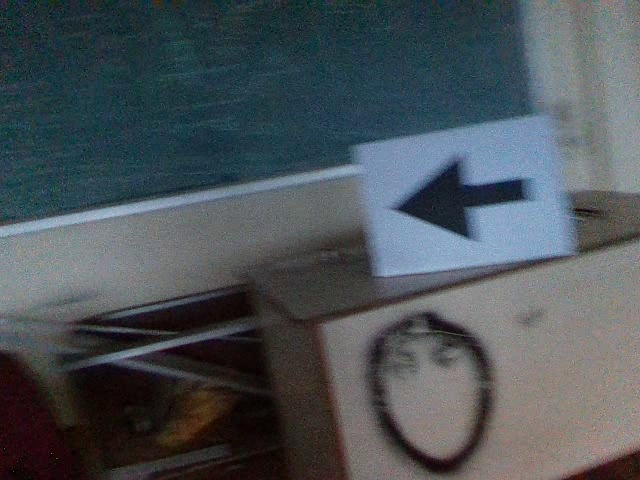Left: (381, 150, 534, 240)
